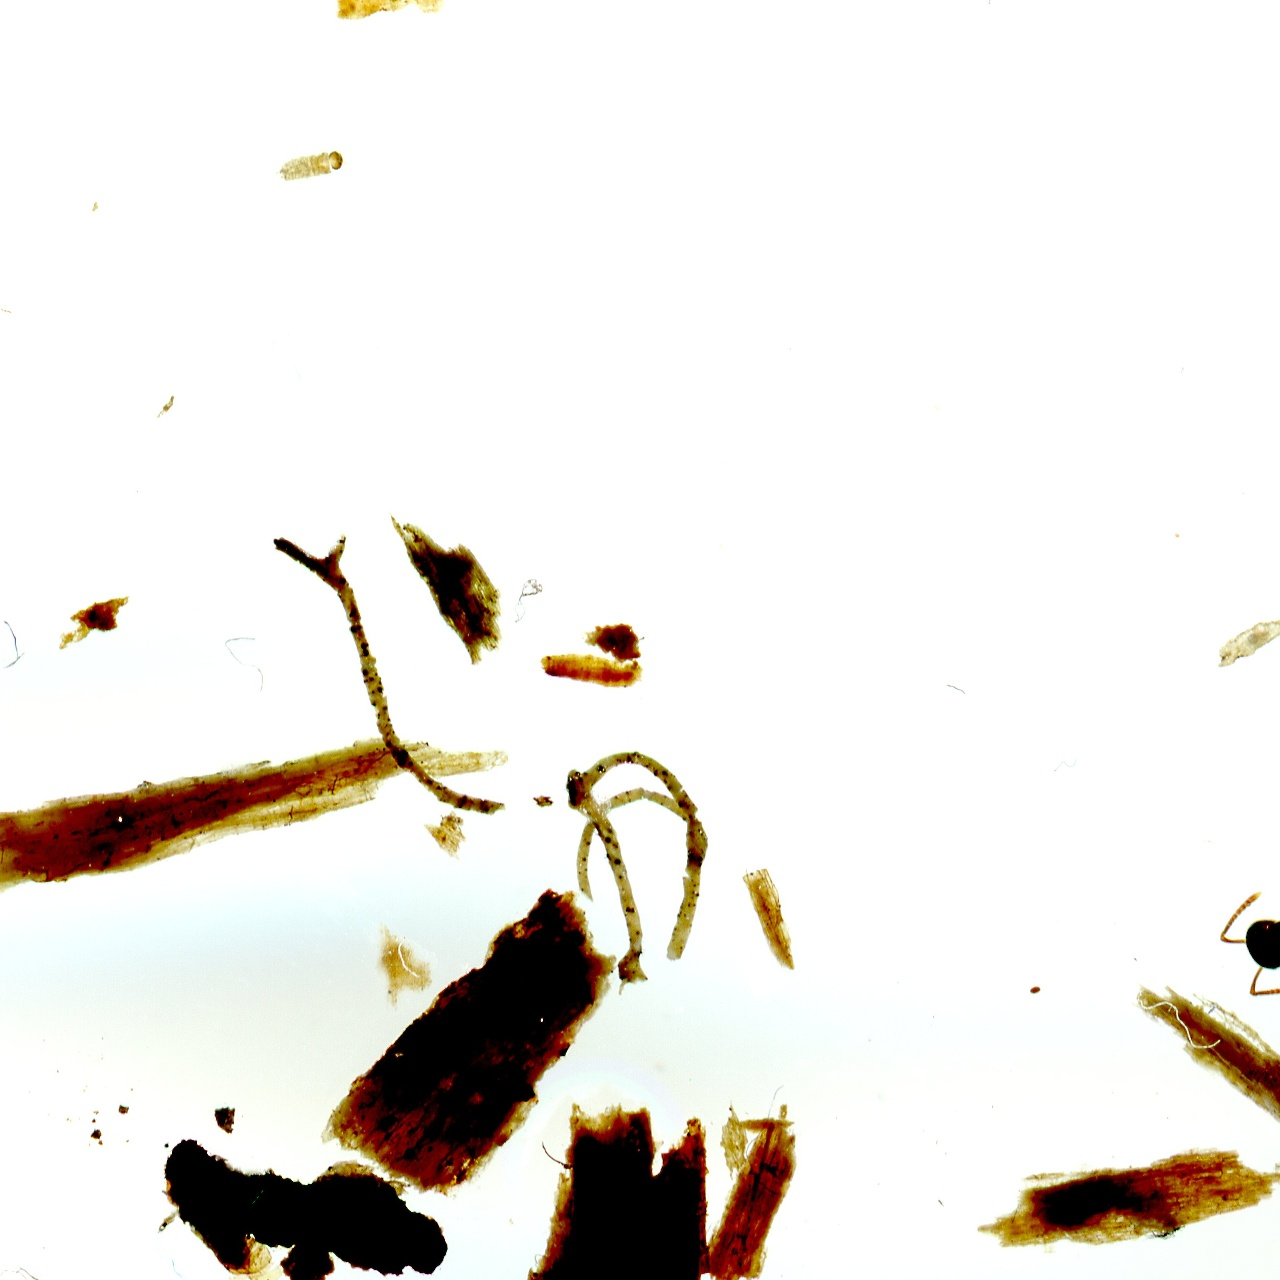arthropod: (1216, 853, 1280, 1001)
